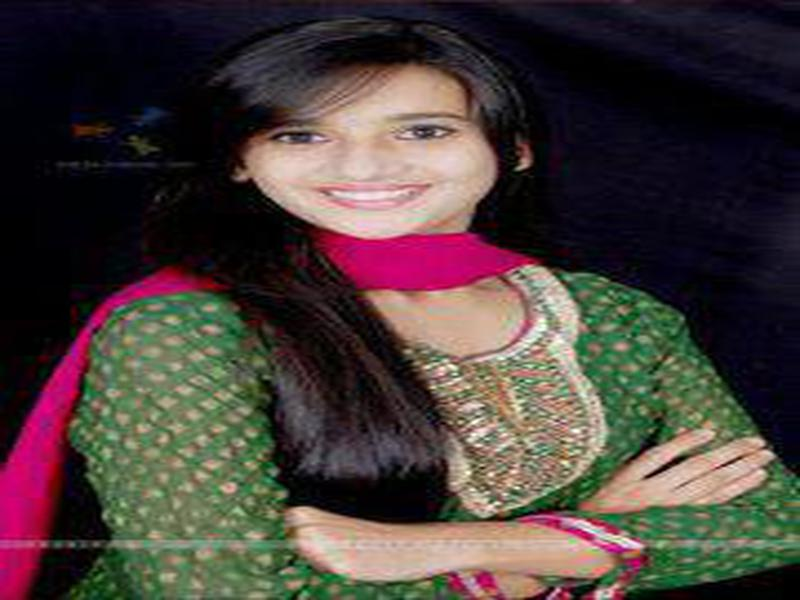without_mask: (242, 84, 493, 242)
